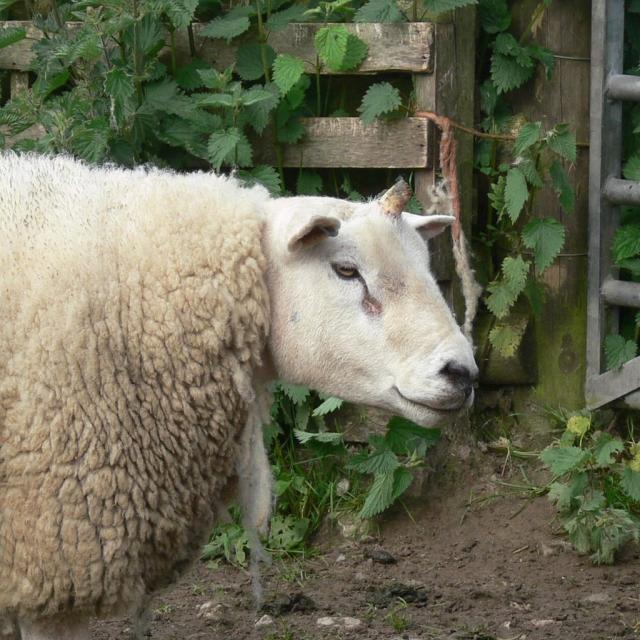Sheep: (0, 148, 483, 640)
